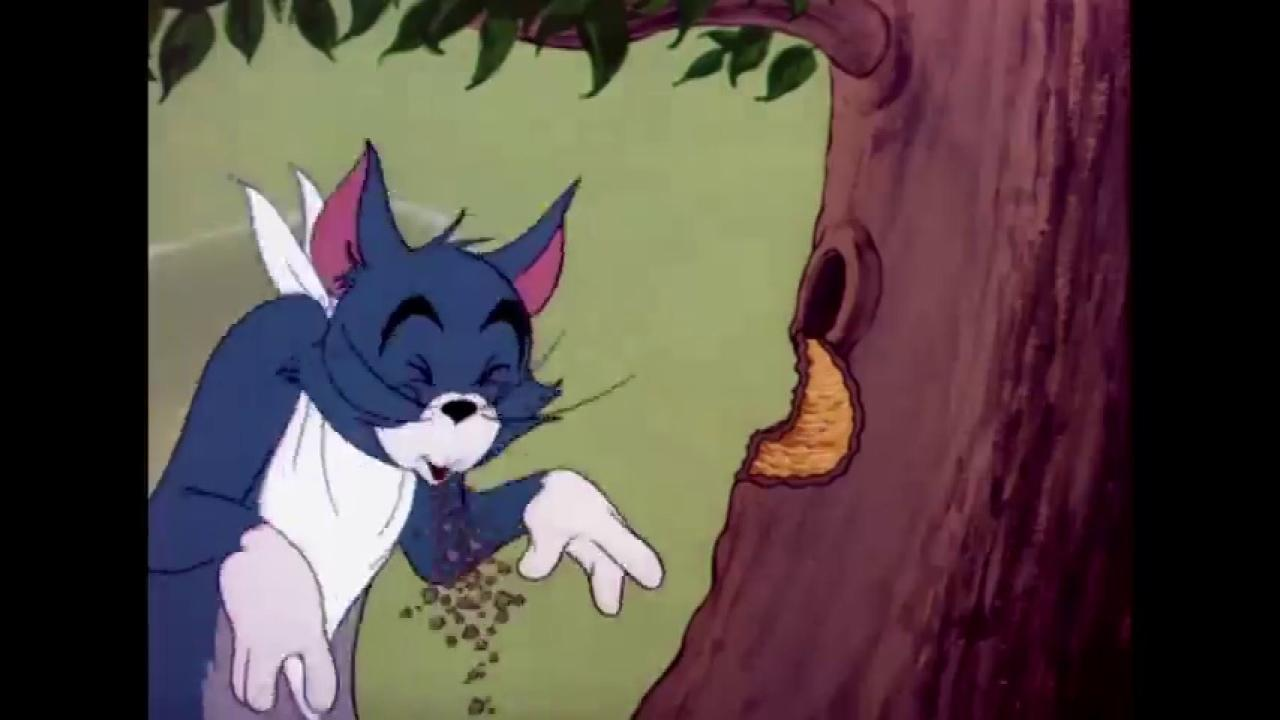Tom: (150, 133, 664, 720)
